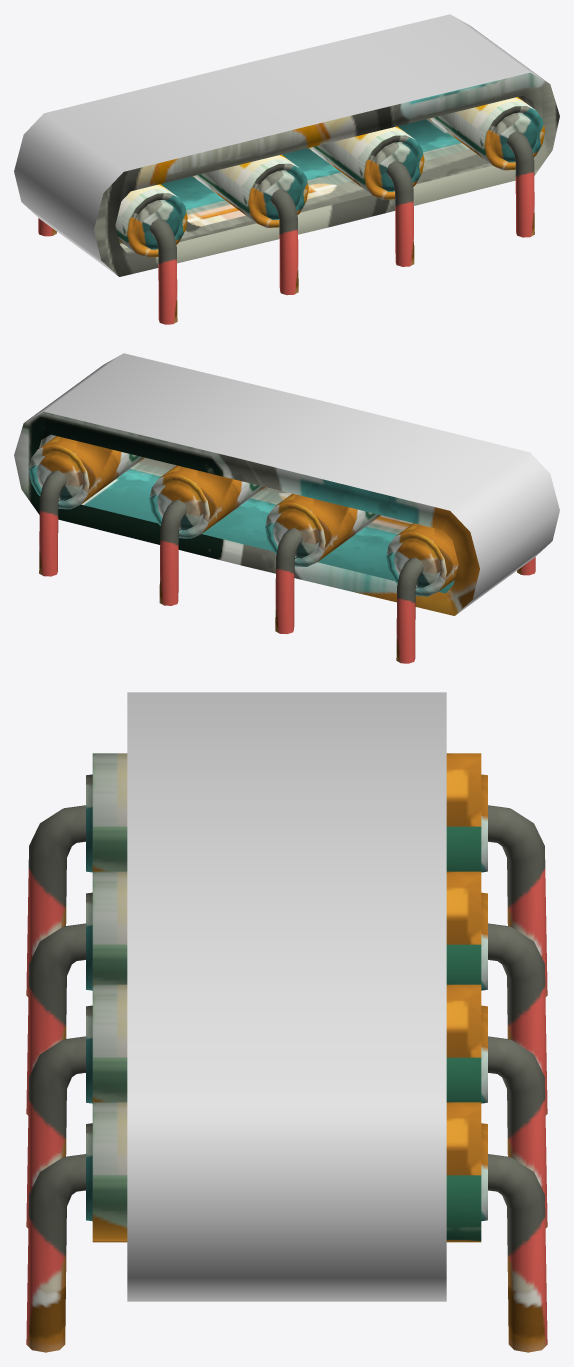
The model's file is MountedMediumConveyorBelt.fbx.
3 renders of one model, top to bottom at view 1: azimuth 30°, elevation 25°; view 2: azimuth 150°, elevation 25°; view 3: azimuth 270°, elevation 25°, orthographic. The views are drawn at different scales.
Parts seen in each view (by area): view 1: MountedMediumConveyorBelt; view 2: MountedMediumConveyorBelt; view 3: MountedMediumConveyorBelt.
Part boxes in pixels (<box>): MountedMediumConveyorBelt: <box>14,14,559,324</box>; MountedMediumConveyorBelt: <box>14,353,559,663</box>; MountedMediumConveyorBelt: <box>26,692,547,1352</box>.
Size of the model in its own units: 4.43 by 1.28 by 2.15.
